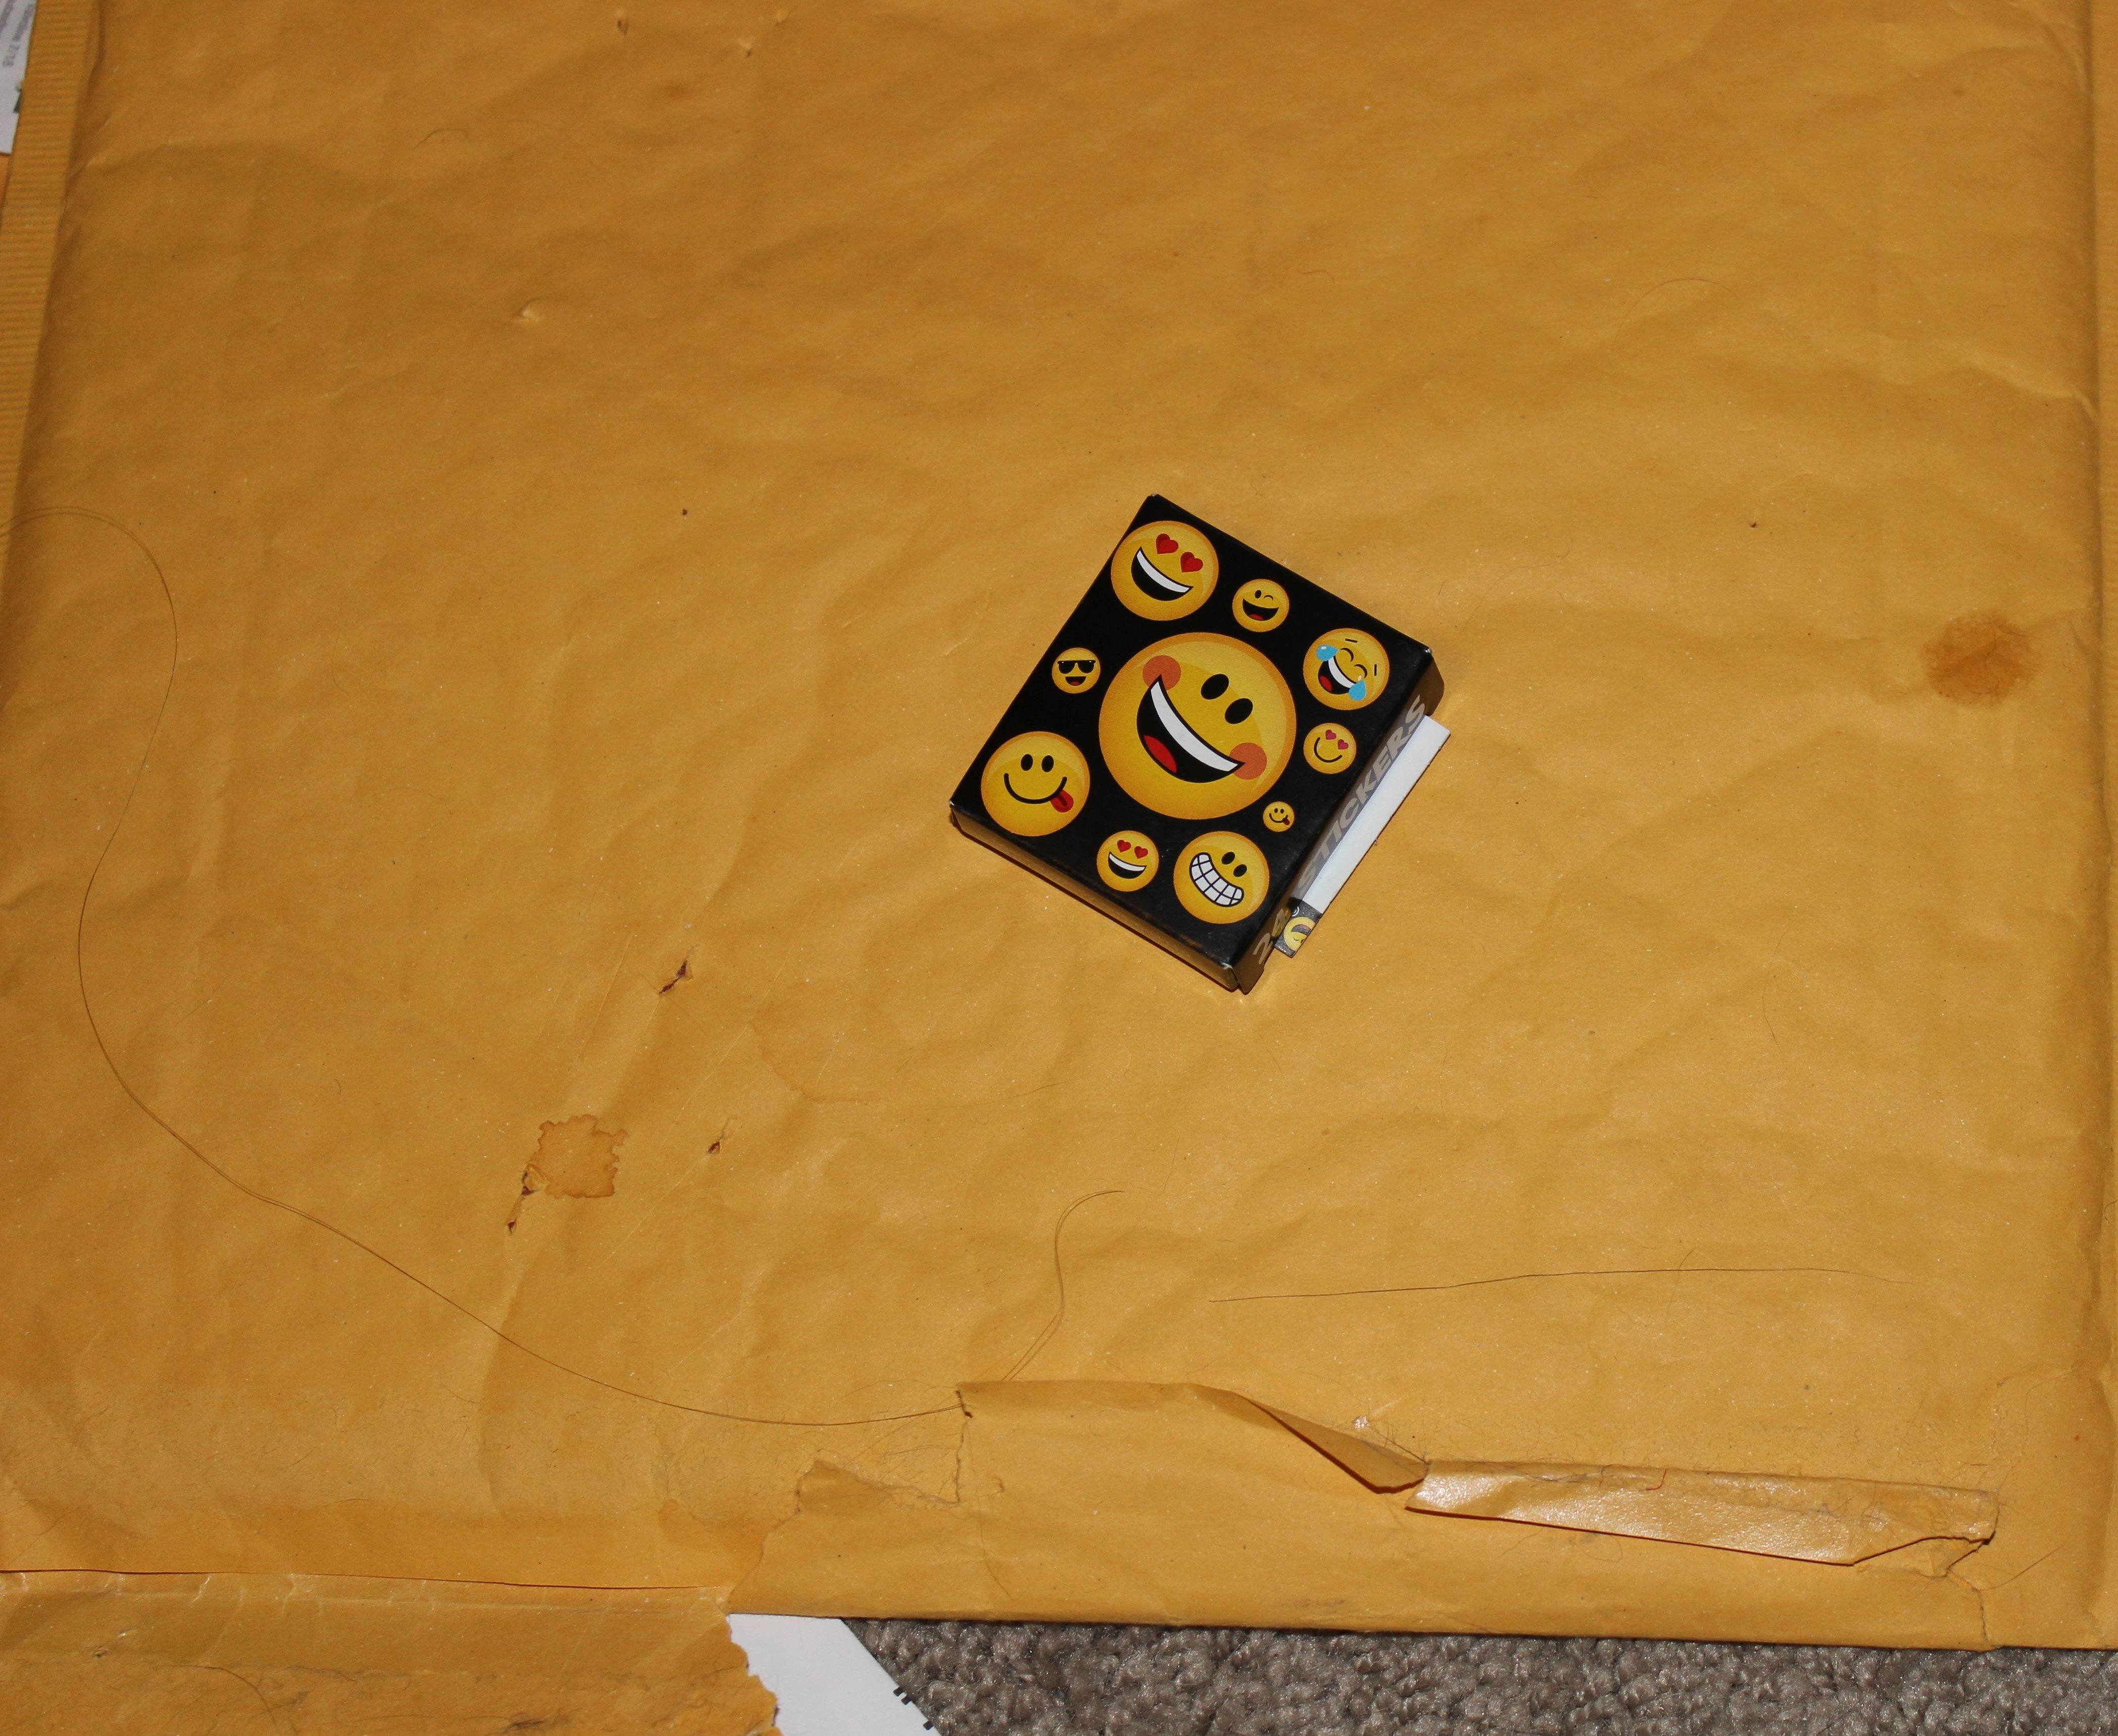stickerBox: (918, 477, 1478, 1022)
